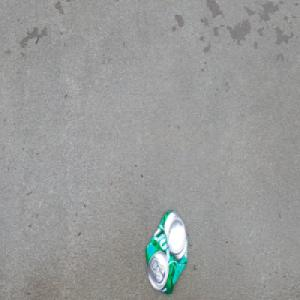SodaCan: (144, 207, 189, 296)
